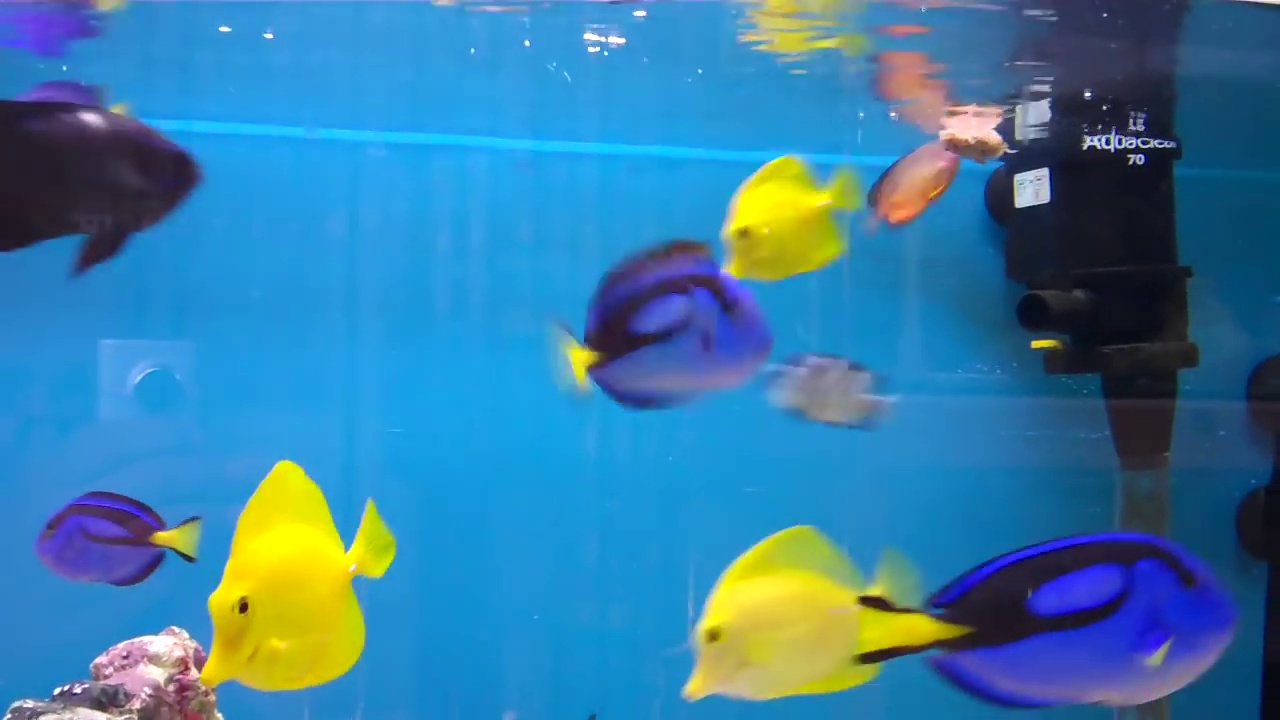blue tang surgeonfish: (857, 483, 1242, 720), (550, 221, 798, 421), (21, 452, 210, 584)
saddle butterfly fish: (198, 438, 387, 702), (666, 511, 905, 712), (711, 136, 874, 282)
